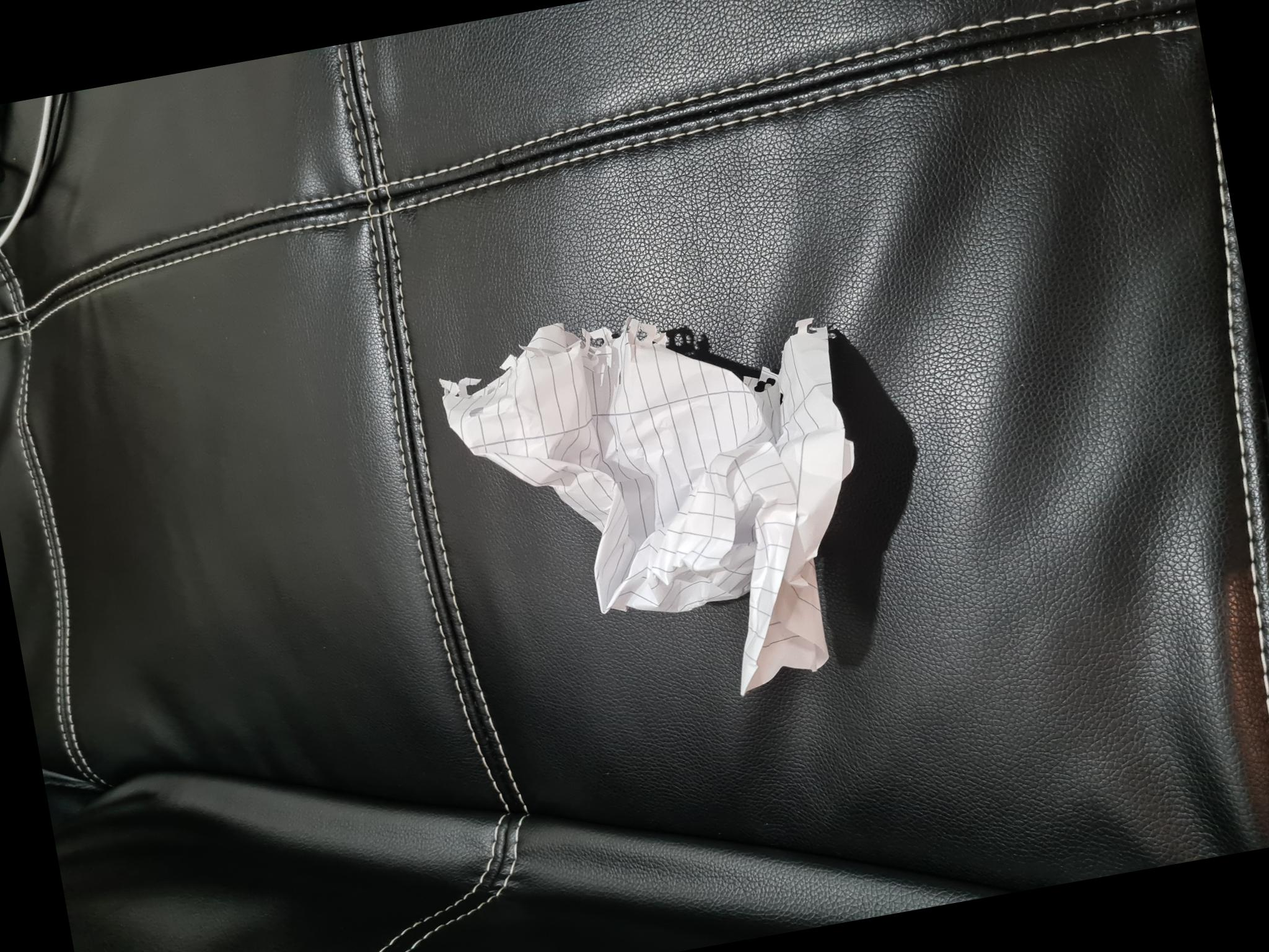Kertas: (289, 466, 662, 879)
